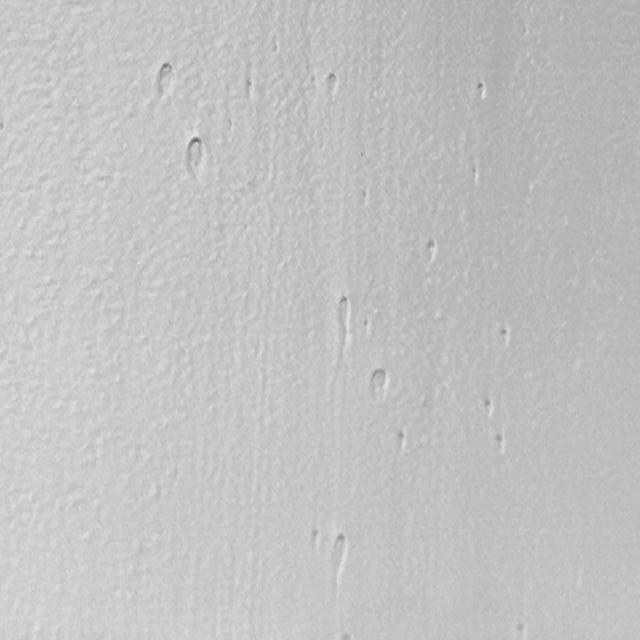pin holes: (182, 136, 208, 179), (326, 533, 349, 578), (330, 297, 352, 341), (153, 61, 177, 98), (367, 368, 390, 399), (322, 72, 342, 98), (421, 238, 439, 266), (494, 325, 514, 348), (491, 430, 508, 456), (473, 80, 490, 103), (242, 76, 257, 101), (466, 163, 482, 186), (360, 314, 374, 339), (308, 527, 322, 550), (513, 621, 528, 640), (482, 398, 495, 419), (396, 430, 409, 451), (360, 188, 372, 208), (340, 629, 354, 639), (0, 119, 8, 134)
